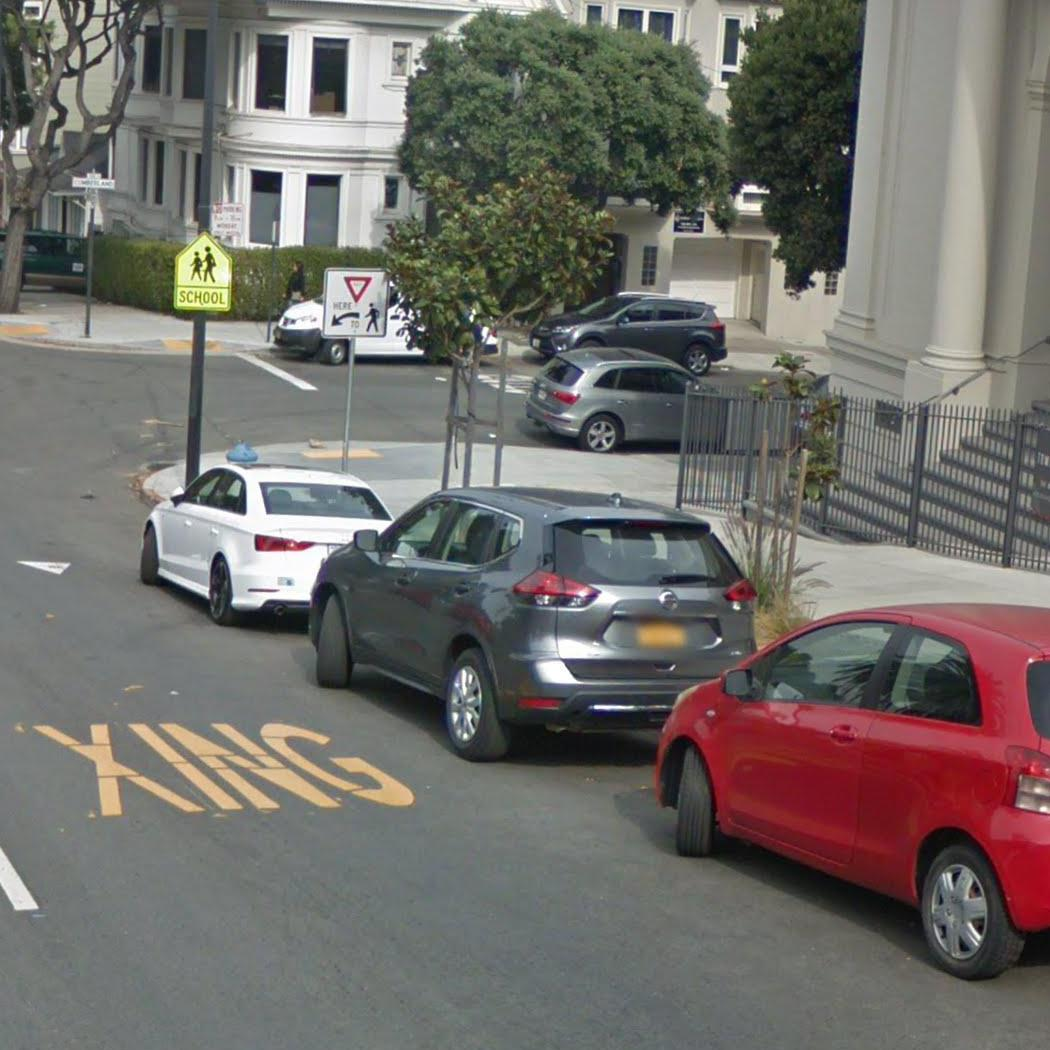No Parking: (209, 202, 245, 235)
